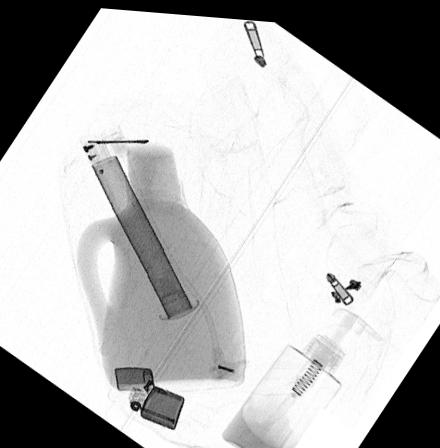Lighter: (114, 363, 186, 426)
